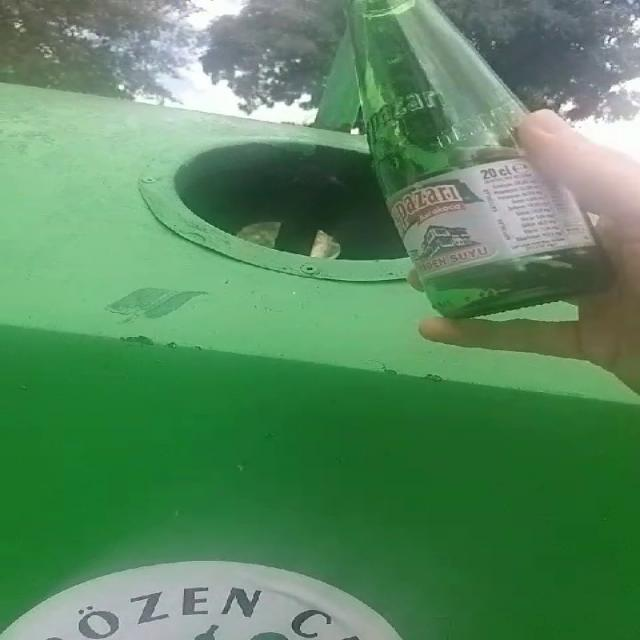glass: (345, 0, 611, 318)
